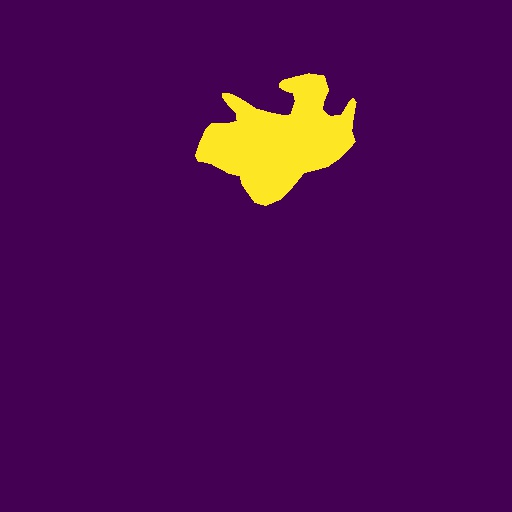Gliomia_tumour: (195, 73, 357, 206)
